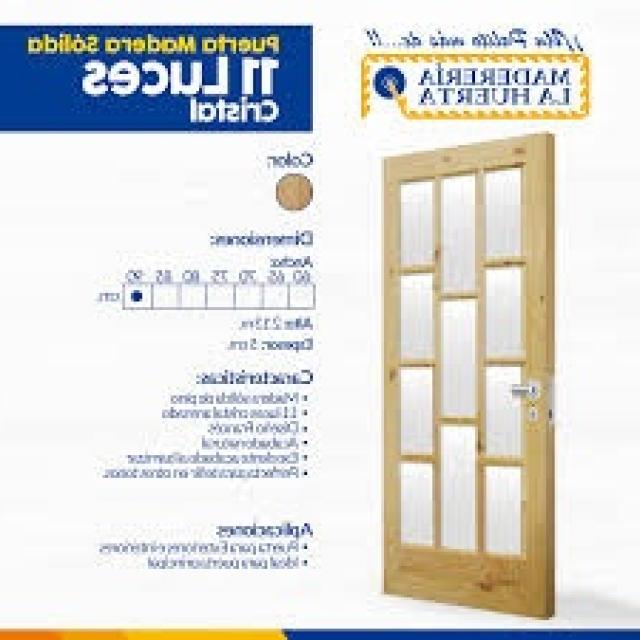door: (380, 130, 556, 618)
